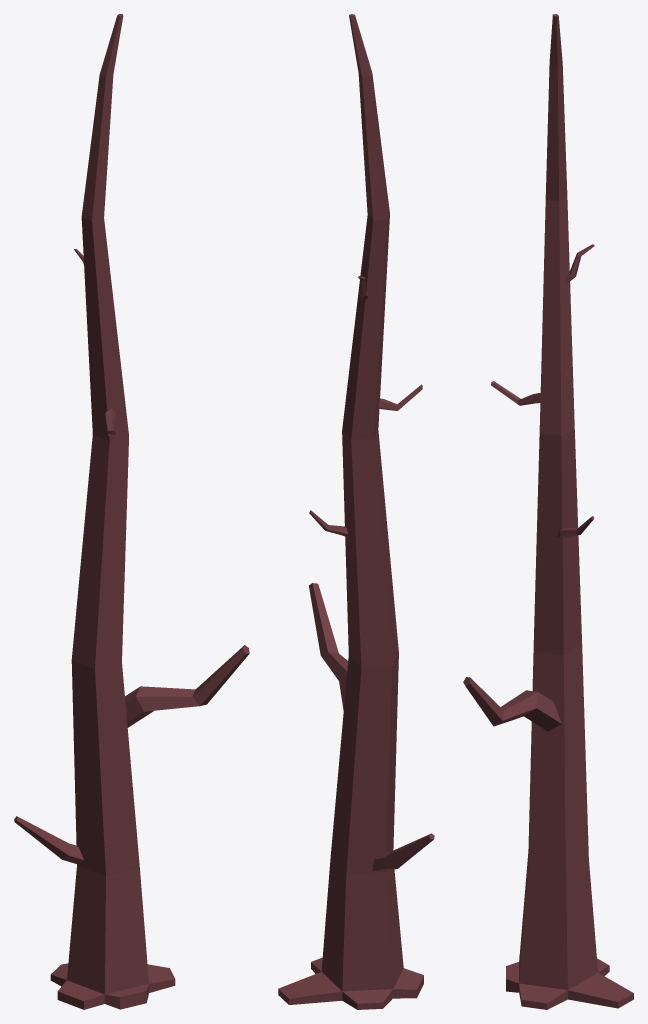
File: tree_7.fbx
The picture shows the model from 3 angles, left to right: view 1: azimuth 30°, elevation 25°; view 2: azimuth 150°, elevation 25°; view 3: azimuth 270°, elevation 25°; orthographic projection.
Parts seen in each view (by area): view 1: Cylinder, Cylinder.003, Cylinder.001; view 2: Cylinder, Cylinder.003, Cylinder.001; view 3: Cylinder, Cylinder.003, Cylinder.005.
Boxes of the visible parts, x1,y1,x2,y2 form: Cylinder: (50, 14, 175, 1009); Cylinder.003: (125, 645, 249, 727); Cylinder.001: (14, 816, 83, 864); Cylinder: (278, 14, 423, 1009); Cylinder.003: (309, 583, 348, 710); Cylinder.001: (372, 833, 434, 871); Cylinder: (506, 14, 633, 1009); Cylinder.003: (463, 677, 561, 731); Cylinder.005: (491, 381, 540, 405).
Size of the model in its own units: 34.15 by 176 by 27.9.
